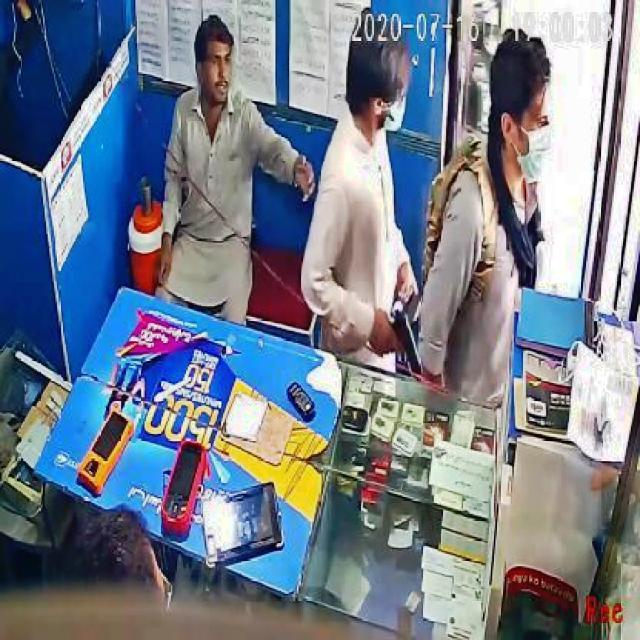Gun: (372, 302, 426, 370)
